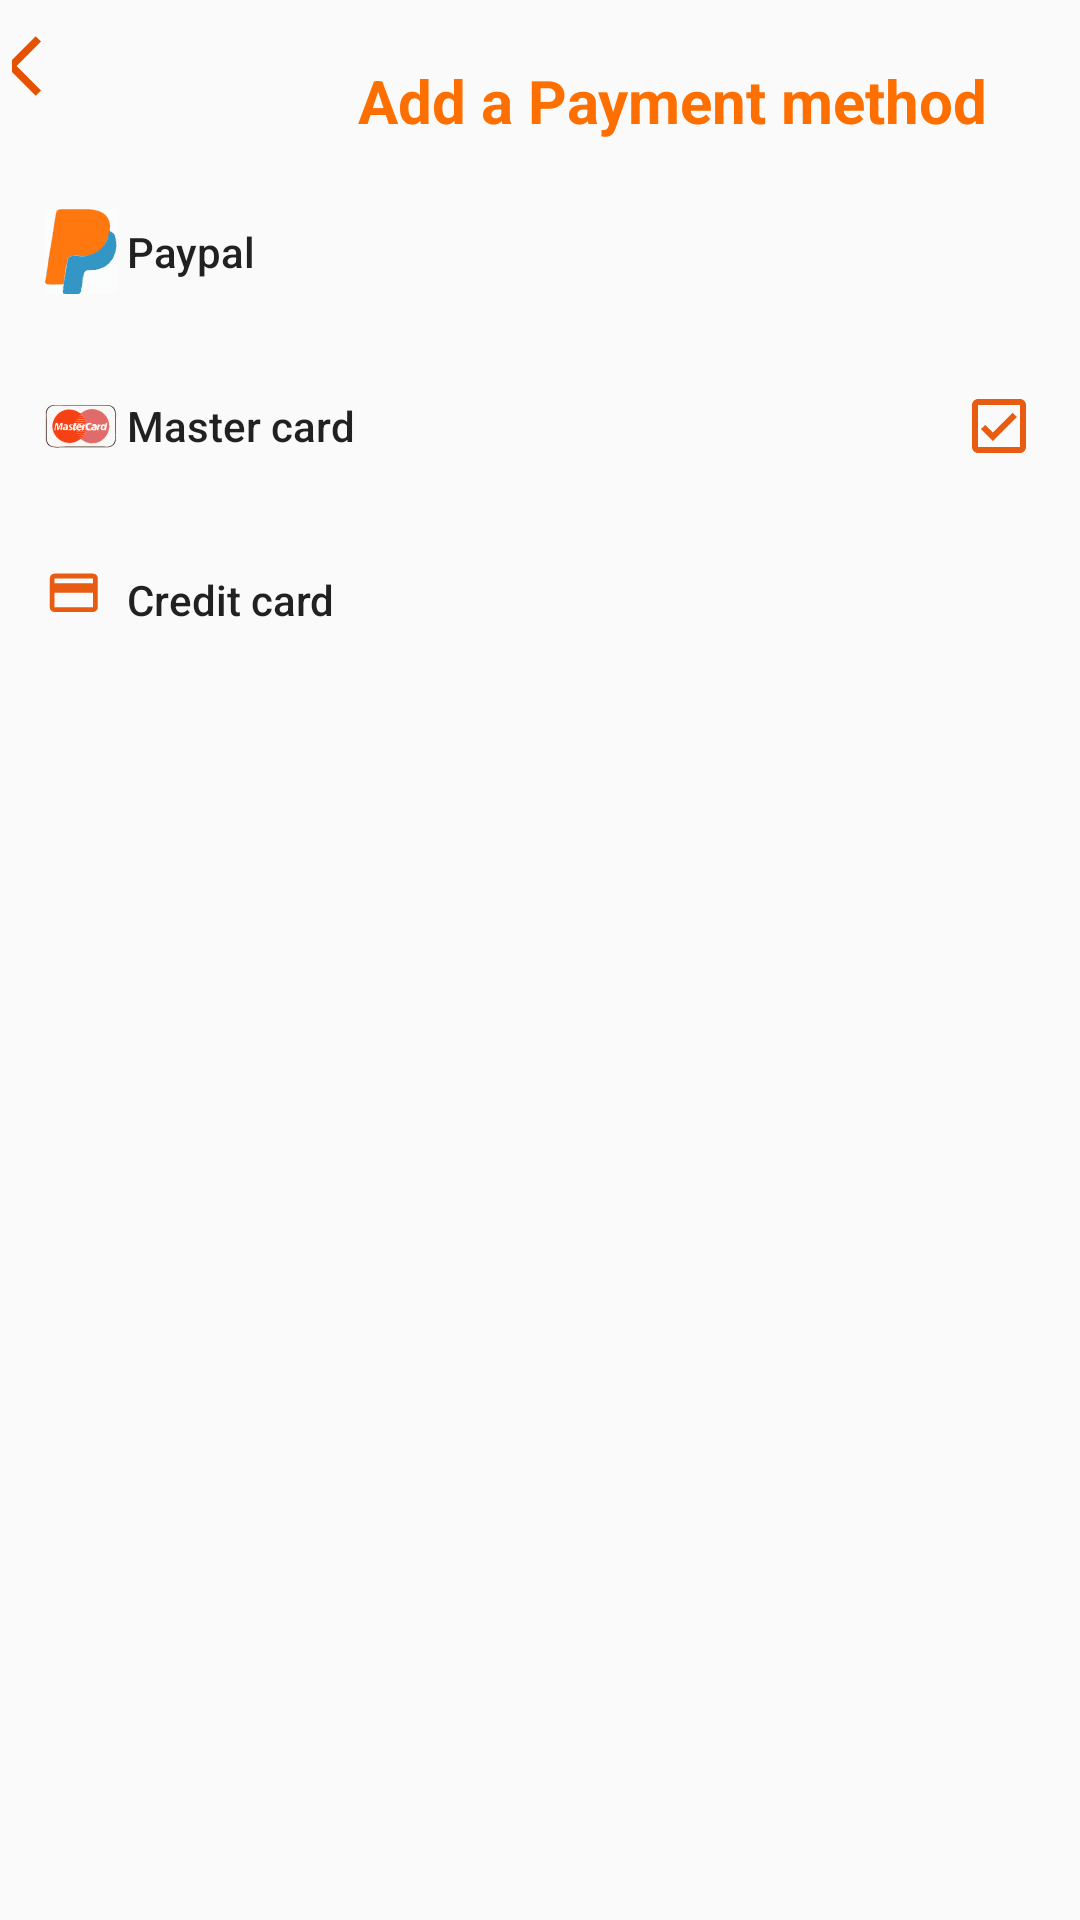

Where icons sit on this 1080×1920 app screen, as bbox=[x1, y1, x2, y2]:
arrow back: bbox=[12, 36, 41, 96]
